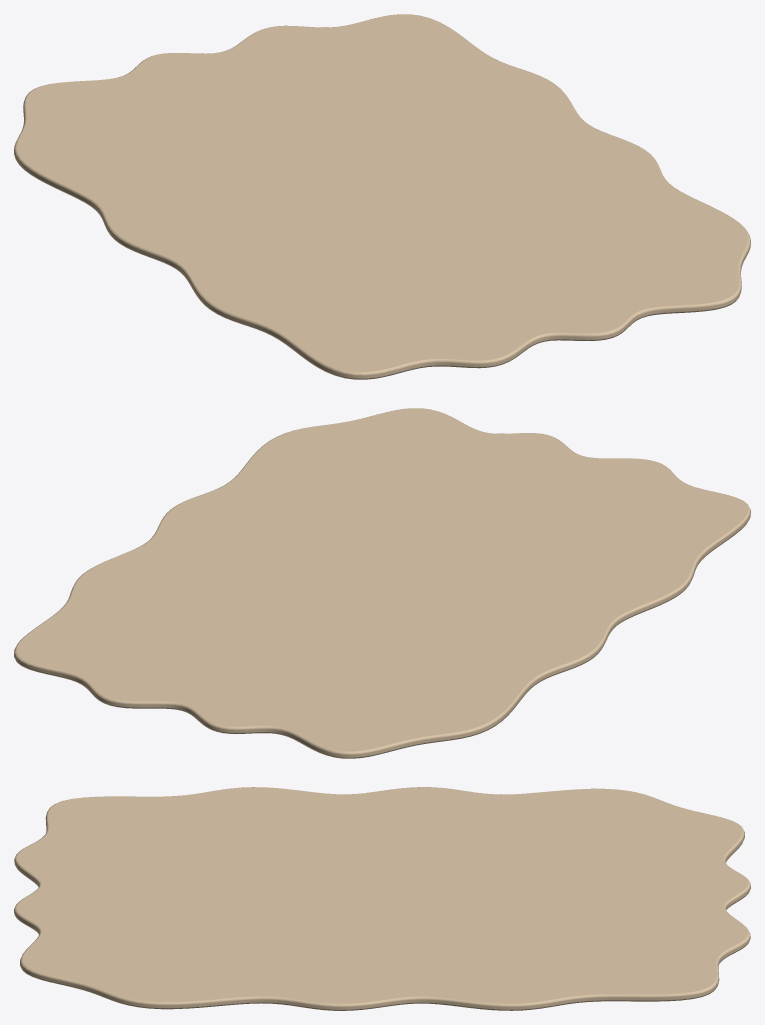
The model's file is rug_wave.glb.
The picture shows the model from 3 angles, top to bottom: view 1: azimuth 30°, elevation 25°; view 2: azimuth 150°, elevation 25°; view 3: azimuth 270°, elevation 25°; orthographic projection. The views are drawn at different scales.
Visible parts, largest first — view 1: rug_wave; view 2: rug_wave; view 3: rug_wave.
Boxes of the visible parts, left/top/right/bottom form: rug_wave: left=14, top=14, right=750, bottom=379; rug_wave: left=14, top=408, right=750, bottom=758; rug_wave: left=14, top=787, right=750, bottom=1010.
Bounding box in the file's own units: 1.3 × 0.02 × 1.85.
